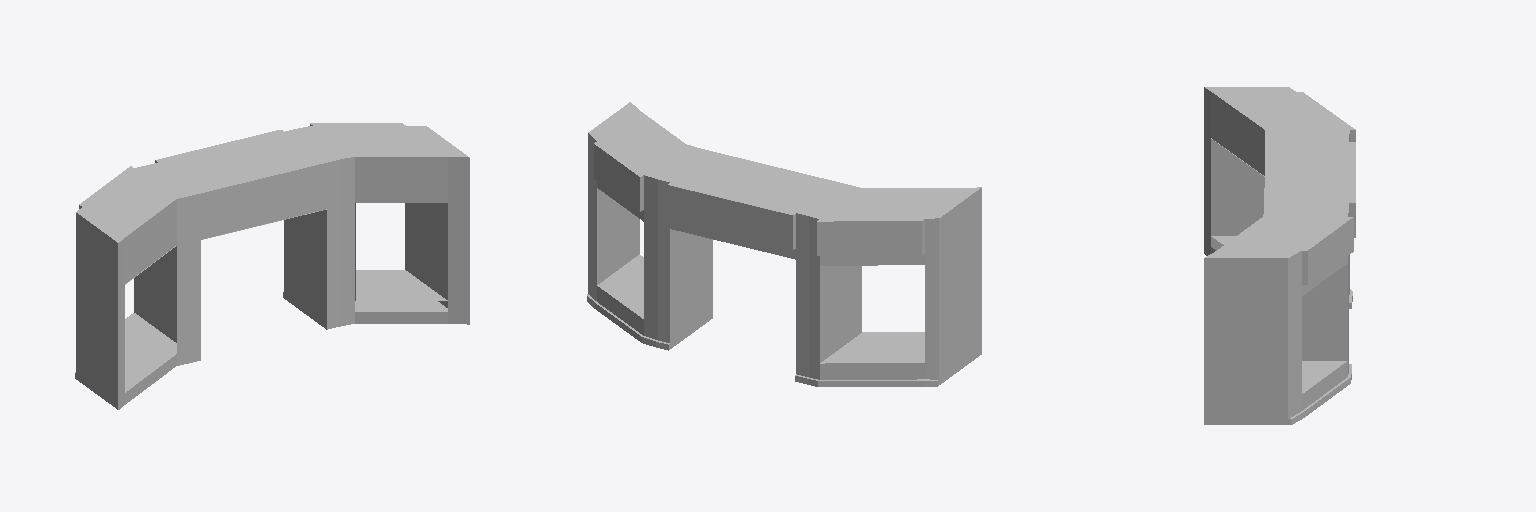
The model's file is shopfront_3.obj.
3 renders of one model, left to right at view 1: azimuth 30°, elevation 25°; view 2: azimuth 150°, elevation 25°; view 3: azimuth 270°, elevation 25°, orthographic.
Parts seen in each view (by area): view 1: Cube.016; view 2: Cube.016; view 3: Cube.016.
Part boxes in pixels (x1,y1,x2,y2): Cube.016: (75, 123, 469, 409); Cube.016: (587, 102, 981, 386); Cube.016: (1204, 87, 1355, 424).
Bounding box in the file's own units: 49.8 × 22.63 × 18.74.